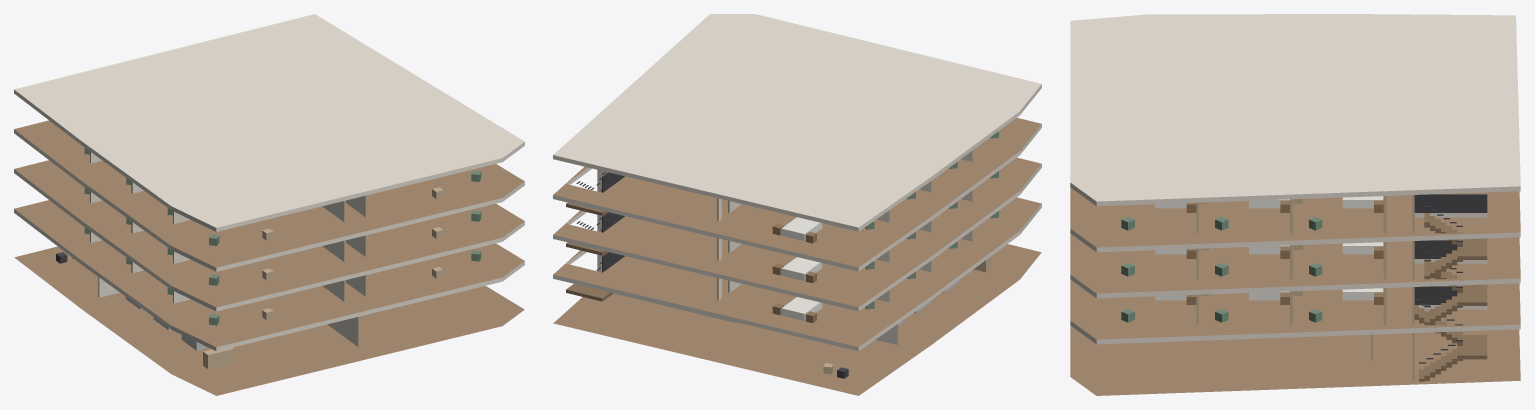
File: interior.glb
The picture shows the model from 3 angles, left to right: view 1: azimuth 30°, elevation 25°; view 2: azimuth 150°, elevation 25°; view 3: azimuth 270°, elevation 25°; orthographic projection. The views are drawn at different scales.
Visible parts, largest first — view 1: slabs, partitions, coarse-s0, coarse-s3, coarse-s2, coarse-s1; view 2: slabs, partitions, stair, coarse-s1, coarse-s3, coarse-s2, coarse-s0; view 3: slabs, stair, coarse-s3, coarse-s2, coarse-s1, partitions.
Part boxes in pixels (<box>): slabs: <box>14,14,524,395</box>; partitions: <box>90,151,367,347</box>; coarse-s0: <box>56,252,233,368</box>; coarse-s3: <box>84,148,481,245</box>; coarse-s2: <box>84,187,481,285</box>; coarse-s1: <box>84,227,481,325</box>; slabs: <box>553,14,1041,395</box>; partitions: <box>597,150,973,345</box>; stair: <box>566,172,624,301</box>; coarse-s1: <box>772,211,998,323</box>; coarse-s3: <box>772,131,998,243</box>; coarse-s2: <box>772,171,998,283</box>; coarse-s0: <box>823,256,990,378</box>; slabs: <box>1070,14,1520,395</box>; stair: <box>1414,194,1487,381</box>; coarse-s3: <box>1121,196,1383,230</box>; coarse-s2: <box>1121,242,1383,276</box>; coarse-s1: <box>1121,288,1383,322</box>; partitions: <box>1196,195,1414,381</box>.
Bounding box in the file's own units: 21.84 × 10.58 × 22.17.
